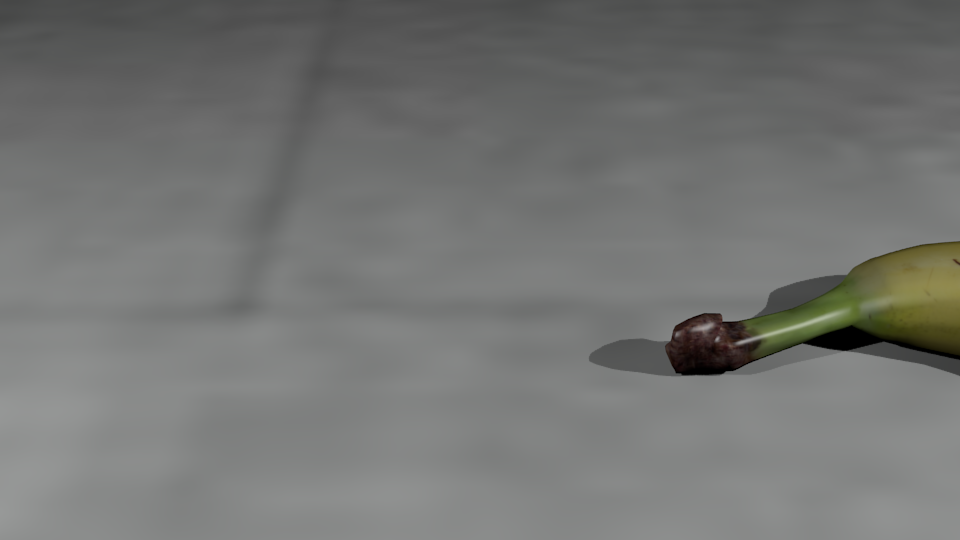apple: (356, 405, 446, 485), (625, 403, 704, 478), (81, 60, 153, 124), (697, 86, 756, 135)
banana: (666, 242, 960, 371), (155, 1, 173, 11)
